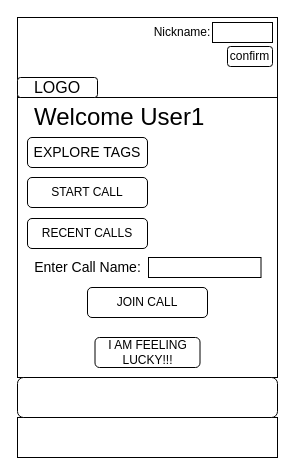
The diagram is 295 pixels wide and 475 high, and some of its shapes have lost their labels. Here are the shapes that lost their labels. From the top down, the box of each, then its label:
(16, 16, 278, 98): IMAGE
(16, 376, 278, 418): About us
(16, 416, 278, 458): All rights reserved 2021.
